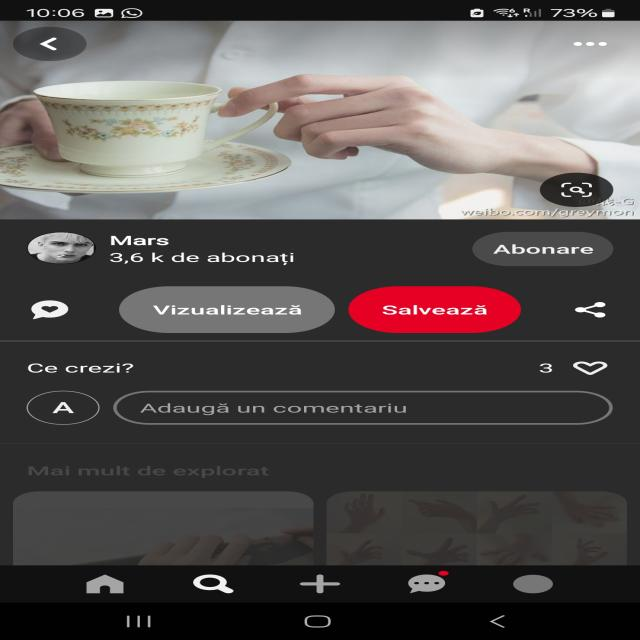hands: (202, 41, 620, 204)
